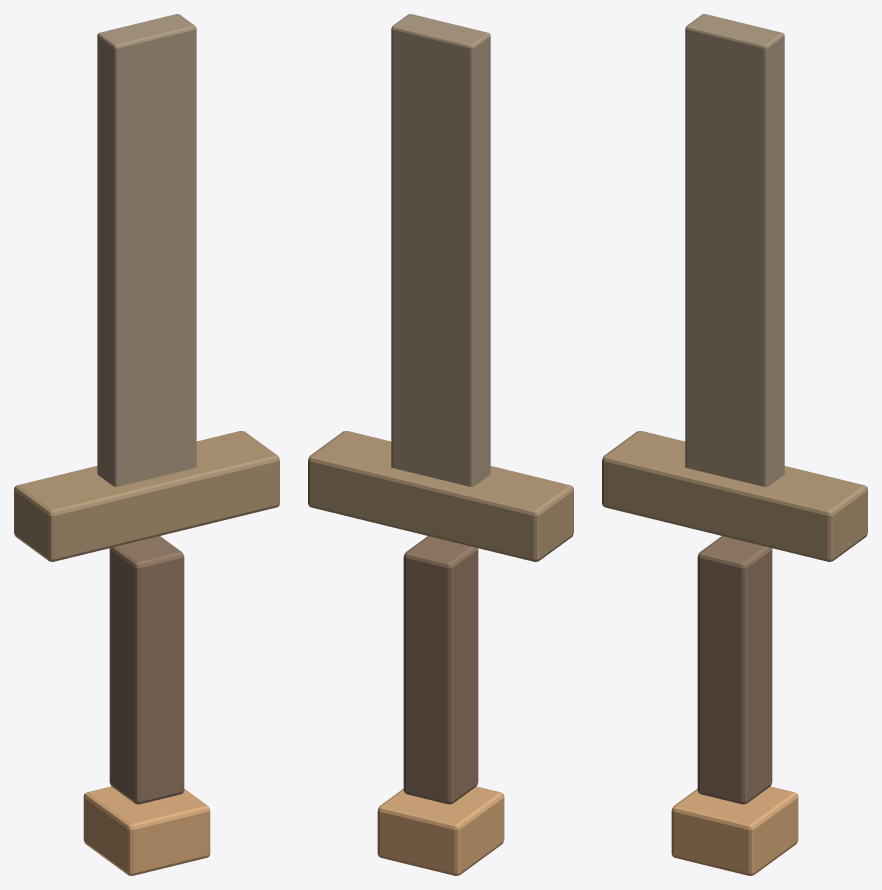
File: weapon_bogiron_dagger.glb
3 renders of one model, left to right at view 1: azimuth 30°, elevation 25°; view 2: azimuth 150°, elevation 25°; view 3: azimuth 330°, elevation 25°, orthographic.
Parts seen in each view (by area): view 1: Blade, Grip, Crossguard, Pommel; view 2: Blade, Grip, Crossguard, Pommel; view 3: Blade, Grip, Crossguard, Pommel.
Part boxes in pixels (left/top/right/bottom): Blade: left=97, top=14, right=196, bottom=486; Grip: left=109, top=536, right=184, bottom=804; Crossguard: left=14, top=431, right=279, bottom=561; Pommel: left=83, top=786, right=210, bottom=875; Blade: left=391, top=14, right=490, bottom=486; Grip: left=403, top=536, right=478, bottom=804; Crossguard: left=308, top=431, right=573, bottom=561; Pommel: left=377, top=786, right=504, bottom=875; Blade: left=685, top=14, right=784, bottom=486; Grip: left=697, top=536, right=772, bottom=804; Crossguard: left=602, top=431, right=867, bottom=561; Pommel: left=671, top=786, right=798, bottom=875.
Size of the model in its own units: 0.14 by 0.475 by 0.05.
